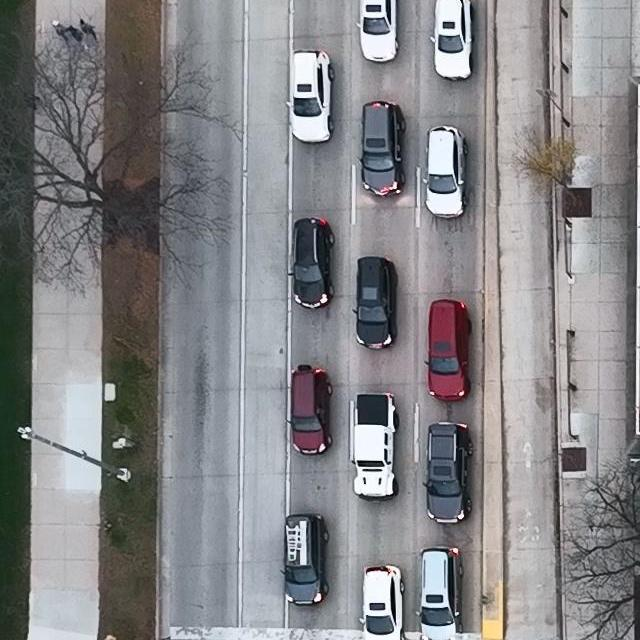car: (349, 393, 399, 502), (422, 423, 475, 525), (285, 48, 336, 144), (425, 299, 473, 401), (357, 101, 407, 197), (279, 513, 330, 607), (414, 545, 464, 640), (287, 217, 336, 310), (422, 126, 470, 220), (352, 257, 400, 351), (286, 365, 333, 456), (358, 564, 406, 640), (429, 0, 475, 79), (356, 0, 401, 64)
